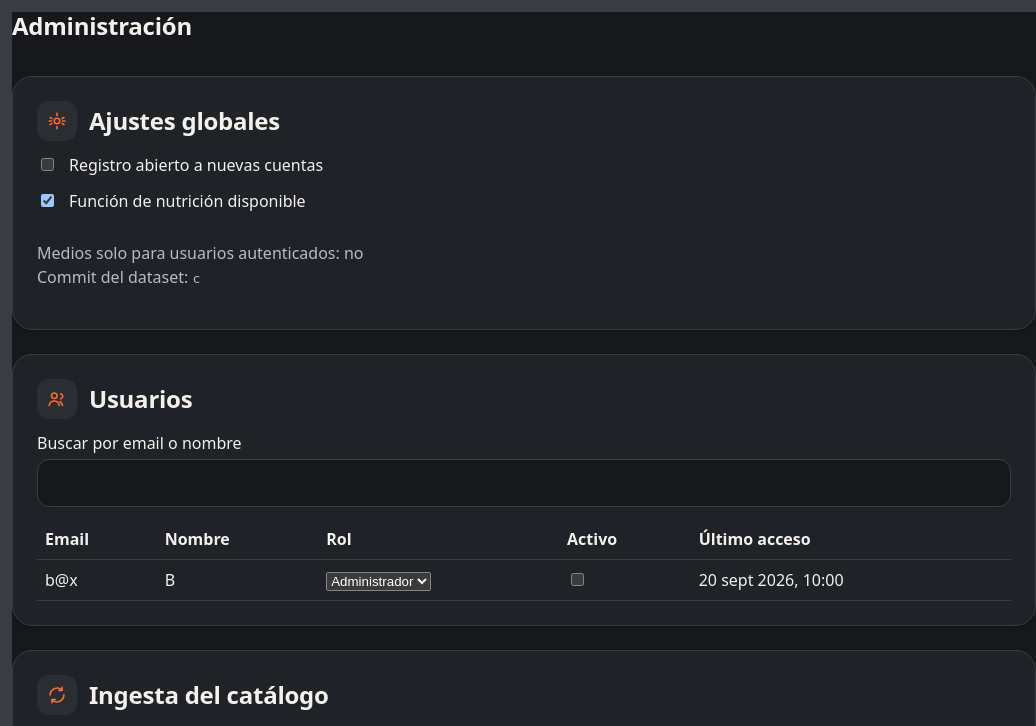
ramas de pantallas › admin: ejecuciones con errores, último acceso, búsqueda y sin ejecuciones
expect the text "b@x" is shown: met, box left=37, top=559, right=157, bottom=600
In the search field labelled "Buscar por email o nombre": [524, 483] box left=37, top=459, right=1011, bottom=507, type "zz"
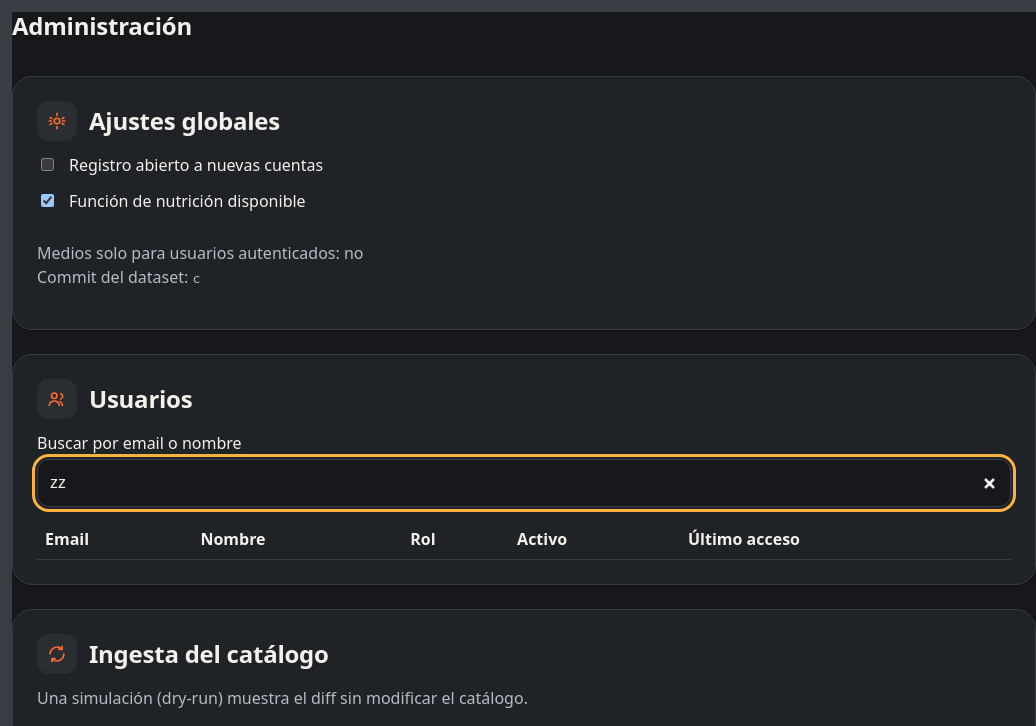
expect the text "b@x" is gone: met
